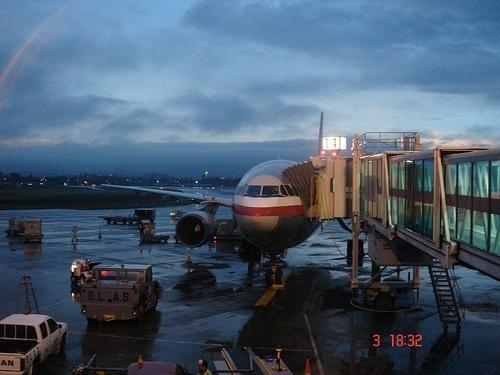truck: (68, 261, 162, 331), (0, 313, 68, 375)
